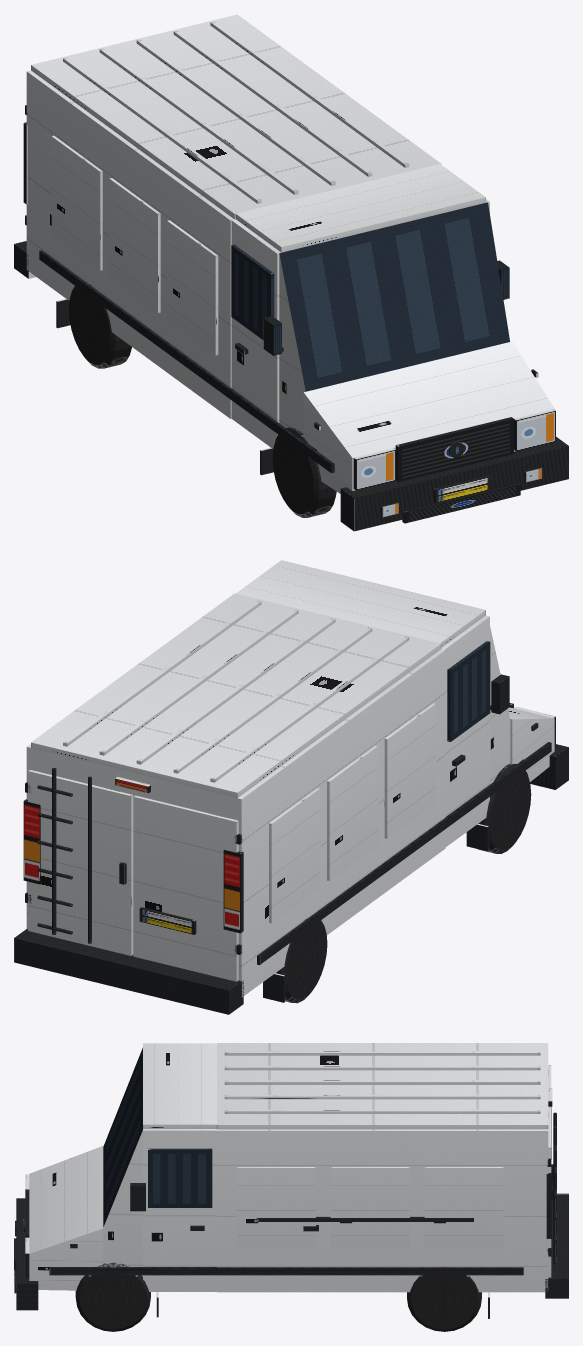
Rendered from vehicle_transit_van.glb.
3 renders of one model, top to bottom at view 1: azimuth 30°, elevation 25°; view 2: azimuth 150°, elevation 25°; view 3: azimuth 270°, elevation 25°, orthographic. The views are drawn at different scales.
Visible parts, largest first — view 1: Vehicle_Transit_Van; view 2: Vehicle_Transit_Van; view 3: Vehicle_Transit_Van.
Part boxes in pixels (left/top/right/bottom): Vehicle_Transit_Van: left=14, top=14, right=568, bottom=531; Vehicle_Transit_Van: left=14, top=560, right=568, bottom=1014; Vehicle_Transit_Van: left=14, top=1043, right=568, bottom=1331.
Size of the model in its own units: 2.24 by 2.33 by 5.61.
1 material, 1 textured.
